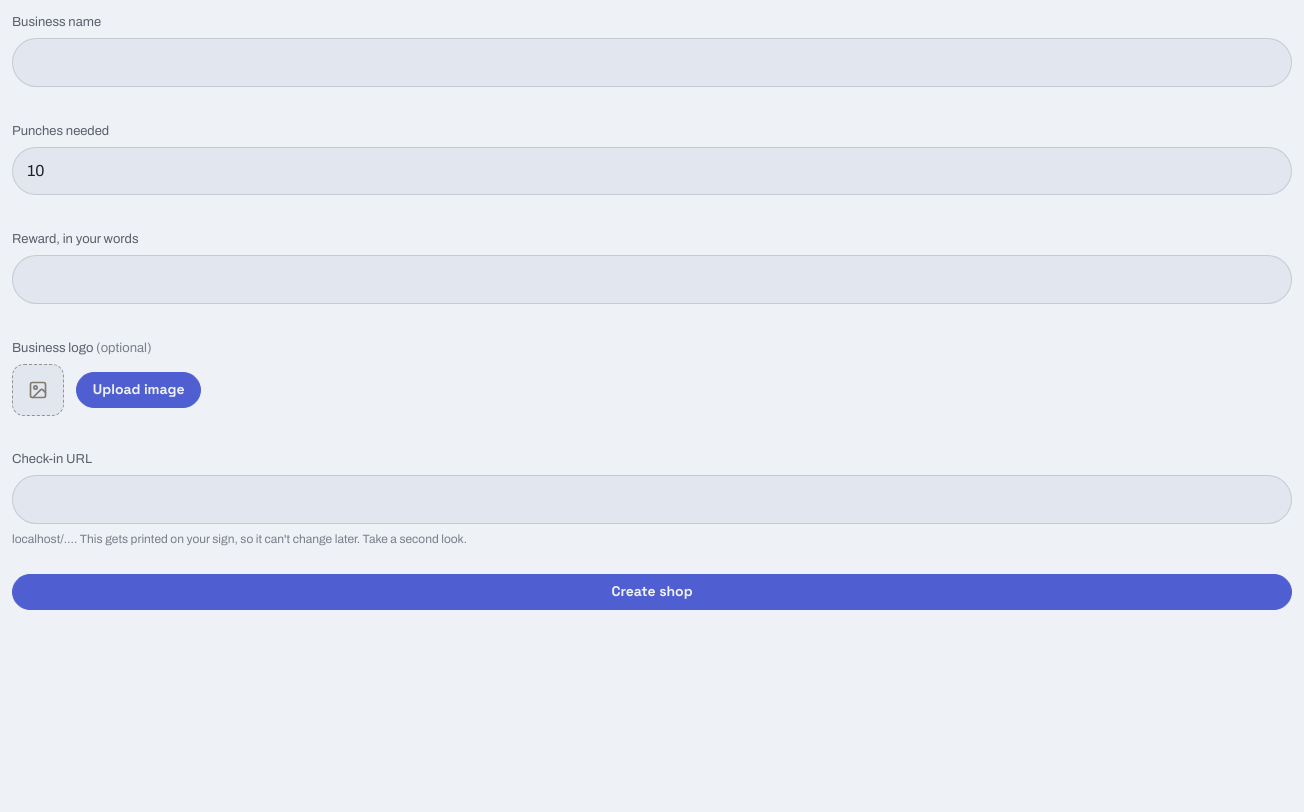
Scenario: OnboardingForm › auto-derives the slug from the business name
The width and height of the screenshot is (1304, 812).
Type "Demo Bookstore" into the field labelled "Business name" at (652, 62), box [12, 38, 1292, 87]
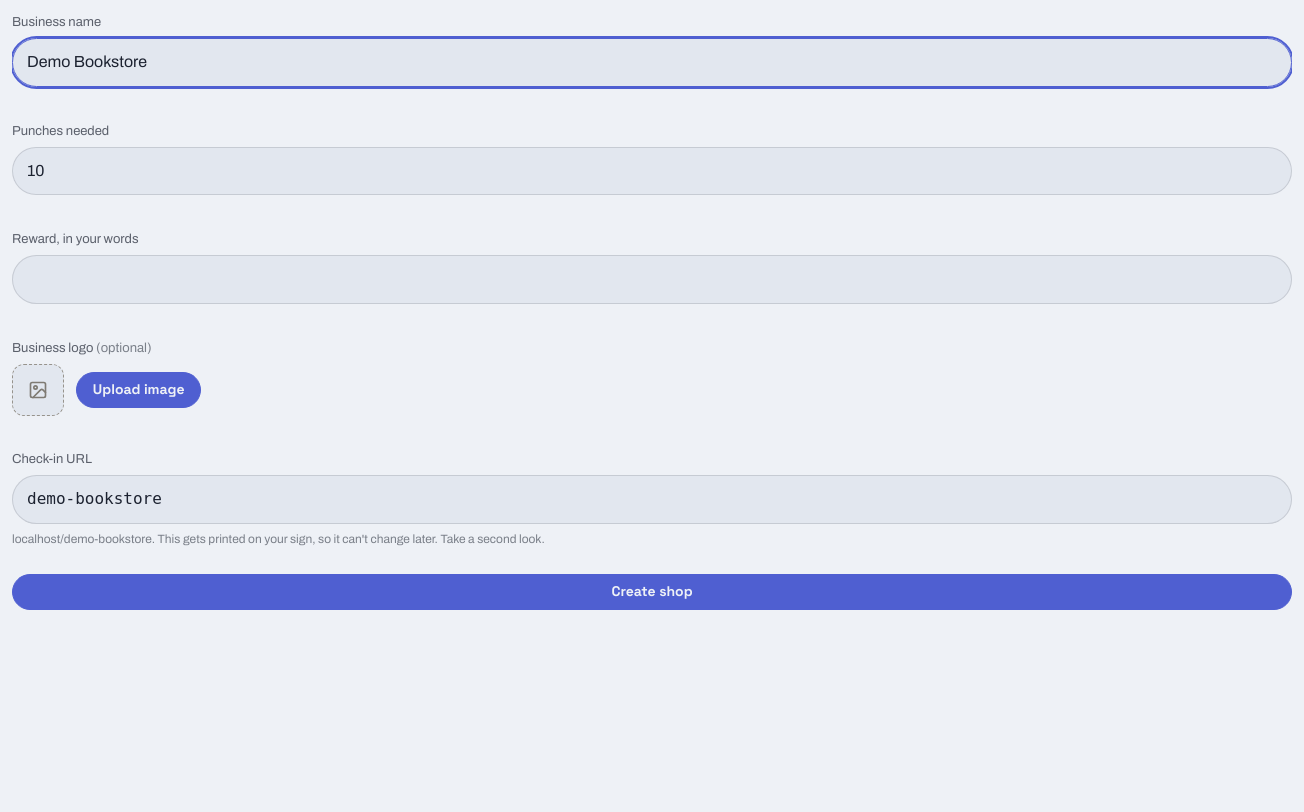
Expected: the field labelled "Check-in URL" holds "demo-bookstore", [12, 476, 1292, 524]
